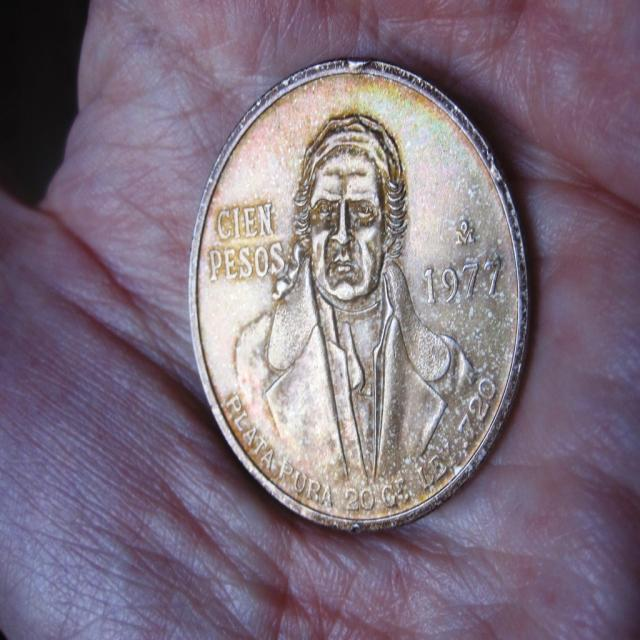Coin: (178, 50, 532, 533)
